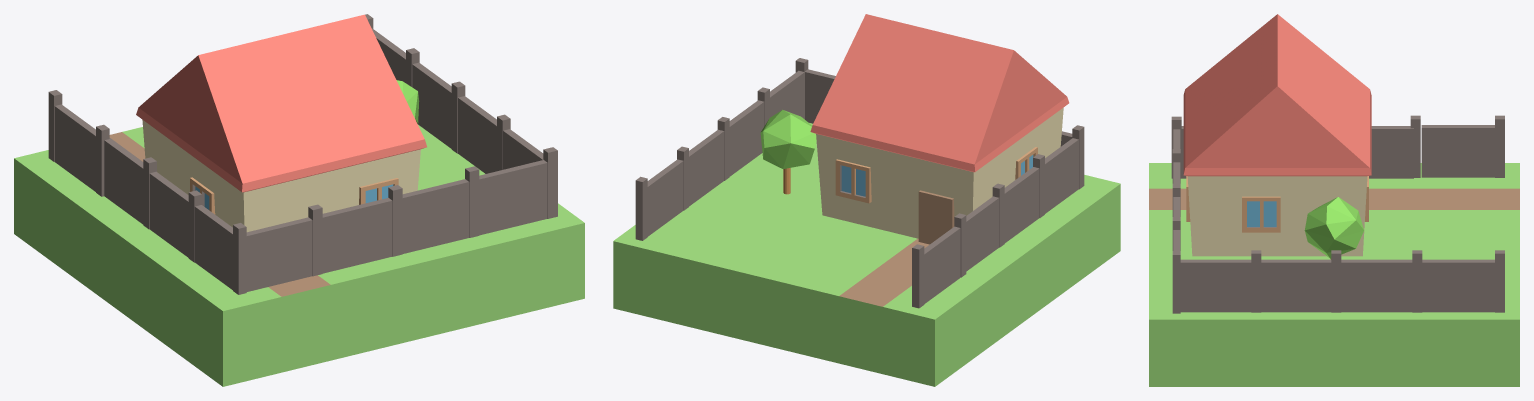
Rendered from LittleHouse.gltf.
3 views of the same model, side by side, from view 1: azimuth 30°, elevation 25°; view 2: azimuth 150°, elevation 25°; view 3: azimuth 270°, elevation 25° (orthographic). The views are drawn at different scales.
Visible parts, largest first — view 1: House; view 2: House; view 3: House.
Boxes of the visible parts, box(x1,y1,x2,y2) form: House: box(14, 14, 584, 386); House: box(613, 14, 1120, 386); House: box(1149, 14, 1519, 386).
Size of the model in its own units: 10 by 7.05 by 10.
